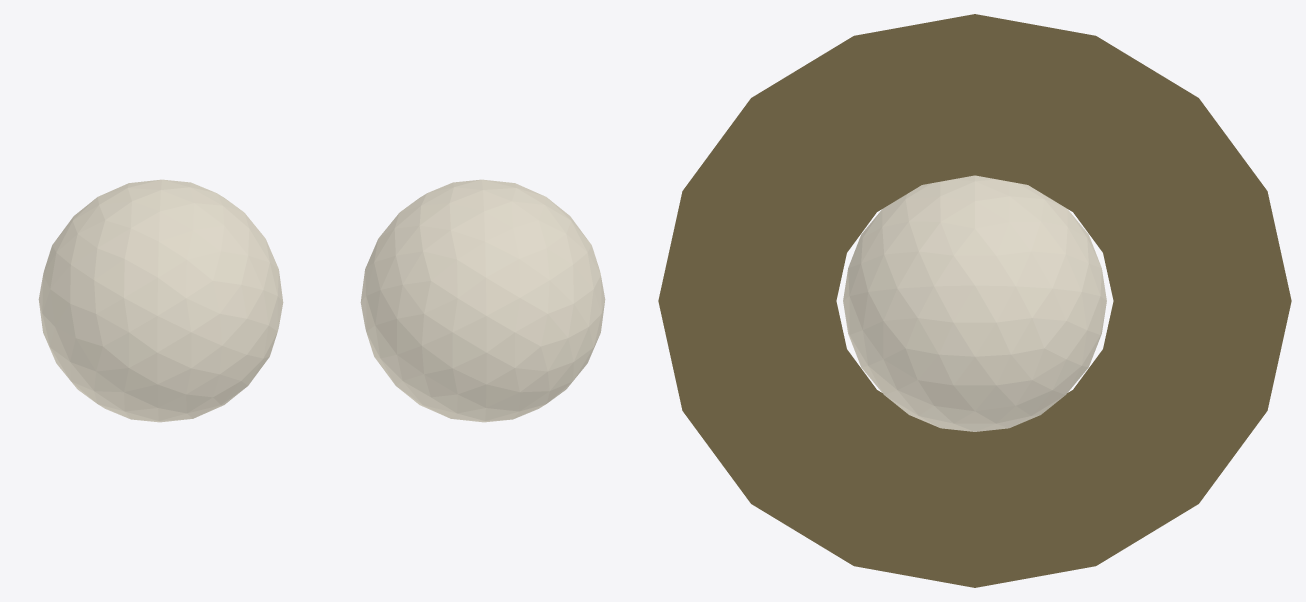
File: sun.glb
3 views of the same model, side by side, from view 1: azimuth 30°, elevation 25°; view 2: azimuth 150°, elevation 25°; view 3: azimuth 270°, elevation 25° (orthographic). The views are drawn at different scales.
Parts seen in each view (by area): view 1: sun; view 2: sun; view 3: sun.
Part boxes in pixels (x1=…): sun: x1=38, y1=179, x2=283, y2=422; sun: x1=360, y1=179, x2=605, y2=422; sun: x1=658, y1=14, x2=1291, y2=587.
Size of the model in its own units: 2 by 4.8 by 4.8.
